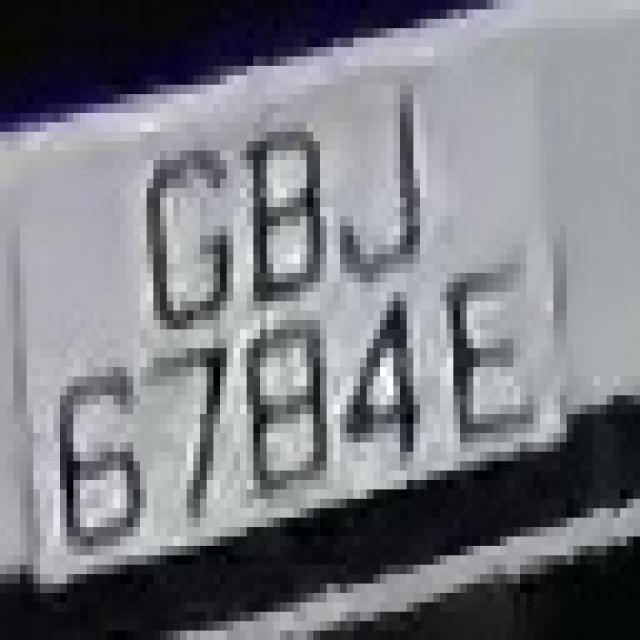4: (327, 273, 433, 518)
6: (40, 330, 167, 574)
7: (147, 320, 240, 555)
8: (220, 282, 333, 518)
B: (240, 94, 340, 339)
E: (447, 235, 540, 461)
G: (127, 94, 240, 367)
J: (346, 66, 446, 292)
